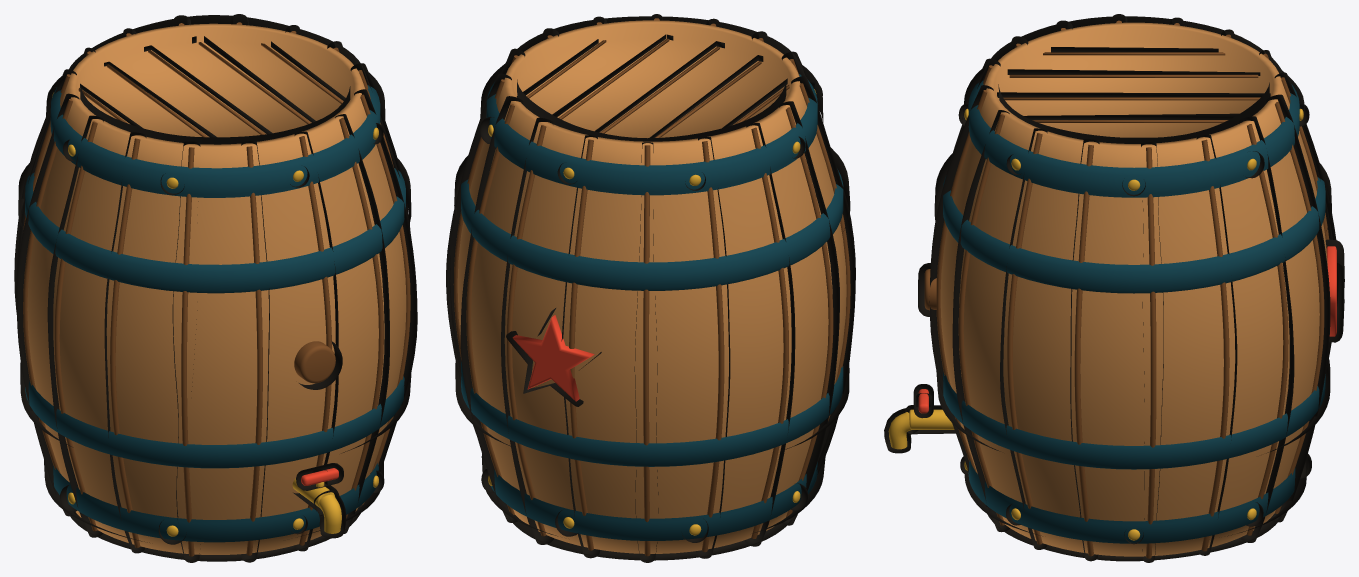
File: barrel.glb
The picture shows the model from 3 angles, left to right: view 1: azimuth 30°, elevation 25°; view 2: azimuth 150°, elevation 25°; view 3: azimuth 270°, elevation 25°; orthographic projection.
Visible parts, largest first — view 1: Barrel, Barrel_outline; view 2: Barrel, Barrel_outline; view 3: Barrel, Barrel_outline.
Boxes of the visible parts, left/top/right/bottom form: Barrel: left=23, top=22, right=410, bottom=556; Barrel_outline: left=14, top=14, right=417, bottom=562; Barrel: left=453, top=18, right=850, bottom=556; Barrel_outline: left=446, top=14, right=855, bottom=562; Barrel: left=888, top=20, right=1336, bottom=558; Barrel_outline: left=884, top=14, right=1344, bottom=562.
Size of the model in its own units: 1.99 by 2.28 by 2.25.
